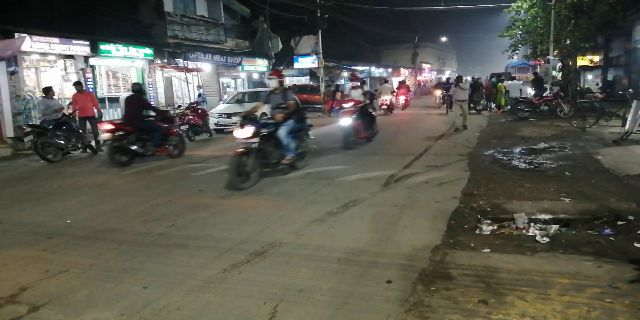Car: (206, 86, 268, 135)
Motorbike: (229, 71, 313, 194), (100, 81, 188, 170), (334, 73, 380, 150)
